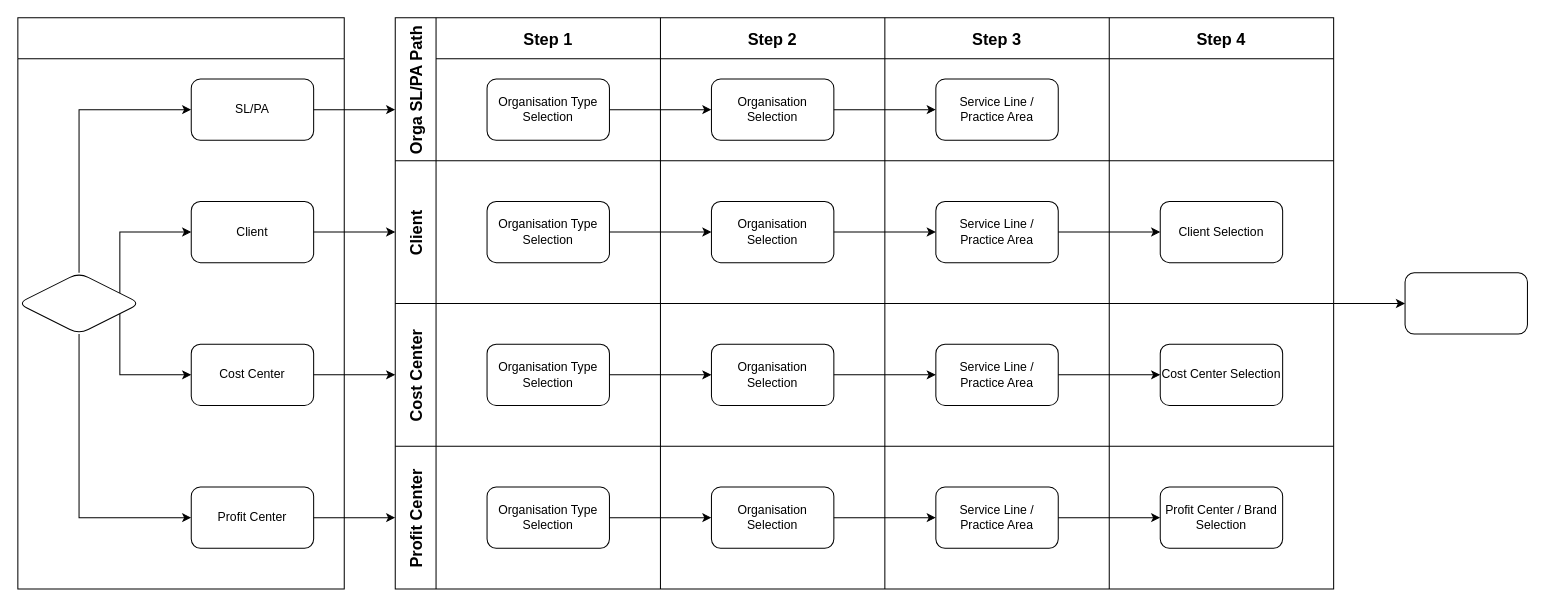
Image size: 1545x607. Some labels were removed from this diagram. Here are the shapes that lost their labels. From the top down, the box of each, then its label:
(17, 272, 140, 334): Security Type
(17, 17, 344, 589): Step 0
(1404, 272, 1527, 334): Approver Finding
